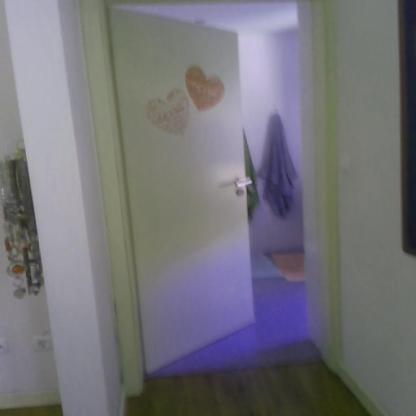door: (77, 3, 339, 398)
